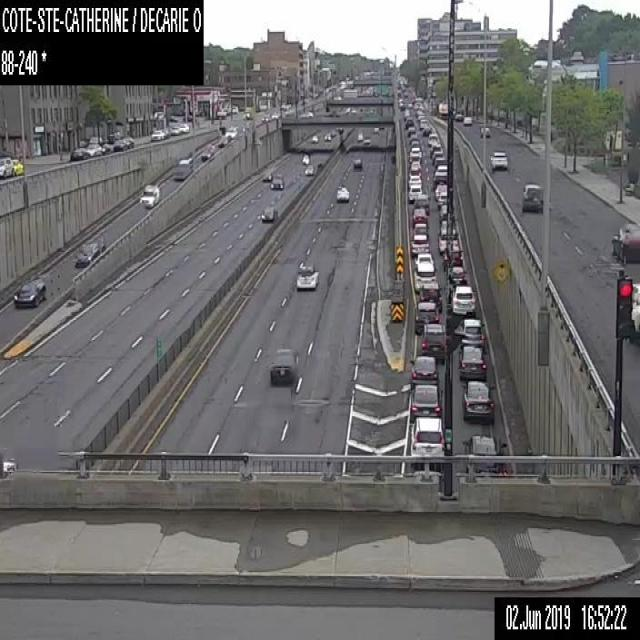vehicle: (461, 380, 495, 422), (410, 416, 444, 456), (610, 220, 639, 263), (268, 346, 299, 386), (409, 384, 443, 417), (12, 276, 46, 308), (461, 432, 508, 455), (457, 345, 486, 379), (74, 241, 105, 268), (422, 323, 444, 360), (409, 356, 438, 384), (414, 302, 438, 334), (419, 280, 442, 313), (452, 285, 475, 314), (521, 182, 543, 212), (459, 318, 484, 344), (296, 262, 319, 290), (414, 262, 436, 290), (138, 183, 159, 208), (631, 282, 639, 346), (173, 157, 192, 180), (442, 249, 462, 270), (438, 233, 457, 255), (410, 233, 429, 254), (489, 150, 507, 169), (449, 266, 466, 286), (0, 156, 13, 179), (261, 204, 277, 222), (414, 193, 429, 212), (440, 220, 456, 237), (433, 170, 447, 188), (200, 145, 216, 160), (414, 252, 434, 264), (413, 222, 428, 238), (412, 208, 427, 224), (439, 204, 454, 220), (408, 185, 421, 202), (270, 174, 284, 189), (86, 143, 101, 157), (336, 185, 349, 201), (70, 147, 86, 160), (429, 143, 442, 158), (11, 158, 23, 174), (434, 184, 446, 199), (432, 151, 444, 166), (224, 127, 237, 140), (408, 174, 421, 187), (242, 105, 254, 118), (112, 140, 126, 150), (437, 191, 446, 206), (352, 158, 363, 170), (409, 166, 421, 177), (101, 143, 113, 154), (151, 130, 164, 140), (428, 133, 438, 146), (435, 156, 446, 167), (123, 137, 134, 148), (409, 147, 421, 157), (299, 109, 313, 117), (217, 135, 227, 146), (304, 163, 314, 174), (480, 126, 490, 137), (161, 127, 171, 137), (422, 126, 432, 136), (179, 122, 188, 132), (419, 118, 428, 128), (302, 153, 310, 164), (405, 116, 413, 127), (436, 164, 447, 172), (262, 172, 272, 180), (323, 130, 331, 140), (410, 160, 420, 168), (171, 125, 179, 134), (454, 113, 463, 121), (362, 137, 370, 146), (463, 116, 472, 124), (407, 126, 415, 135), (409, 134, 419, 141), (356, 131, 363, 140), (410, 140, 419, 147), (311, 134, 318, 142), (371, 127, 379, 133), (261, 115, 268, 121), (272, 112, 278, 118), (231, 106, 237, 112), (330, 130, 336, 136)
